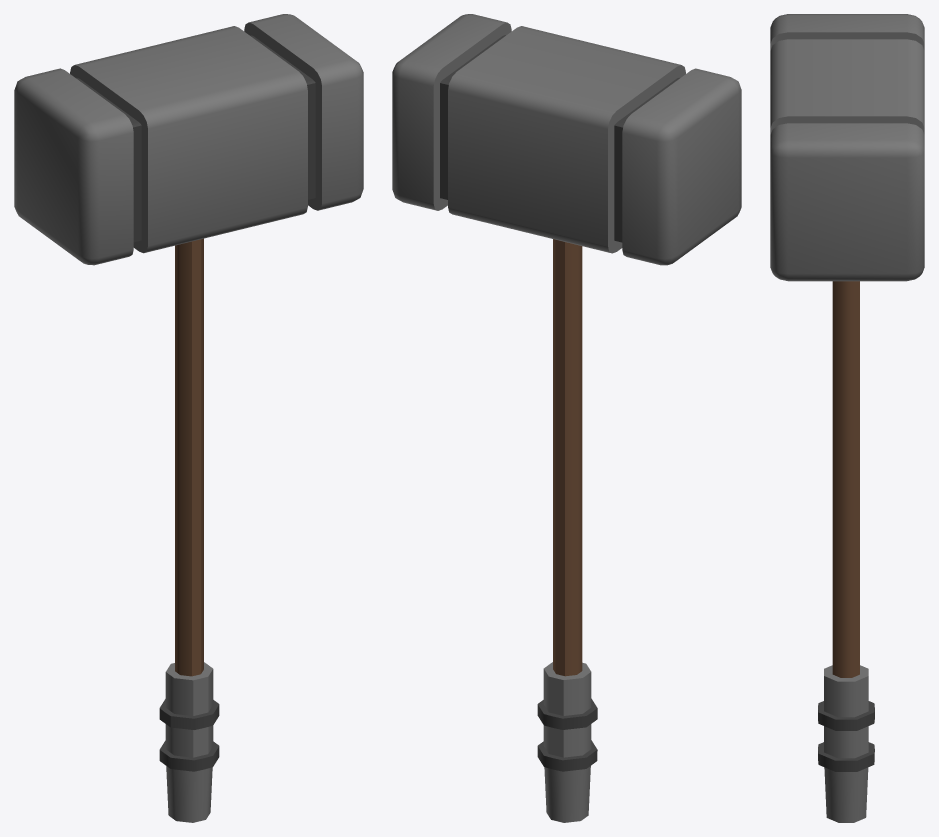
File: Warhammer_4.fbx
3 renders of one model, left to right at view 1: azimuth 30°, elevation 25°; view 2: azimuth 150°, elevation 25°; view 3: azimuth 270°, elevation 25°, orthographic.
Visible parts, largest first — view 1: Warhammer_4; view 2: Warhammer_4; view 3: Warhammer_4.
Boxes of the visible parts, x1,y1,x2,y2 form: Warhammer_4: [14, 14, 363, 822]; Warhammer_4: [392, 14, 741, 822]; Warhammer_4: [770, 14, 924, 822].
Bounding box in the file's own units: 0.1721 × 0.4338 × 0.0823.
